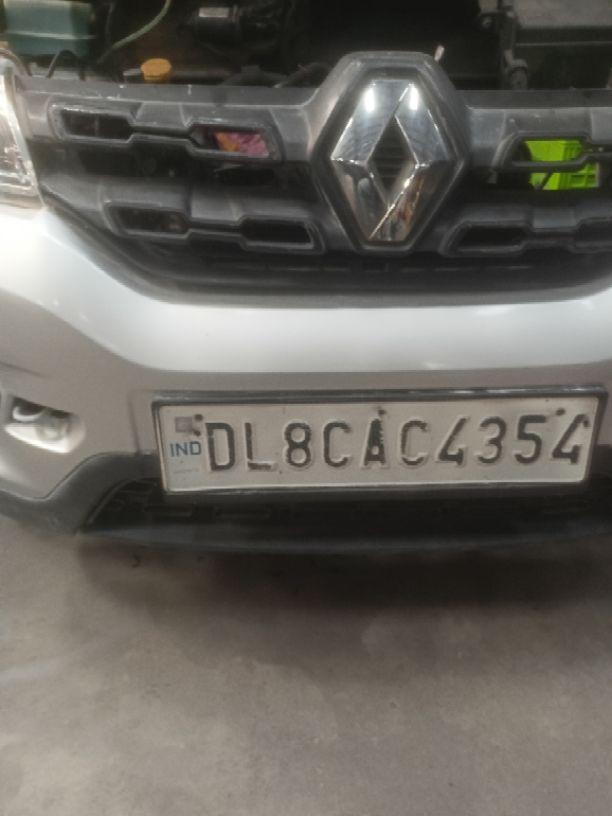license_plate: (151, 386, 605, 497)
